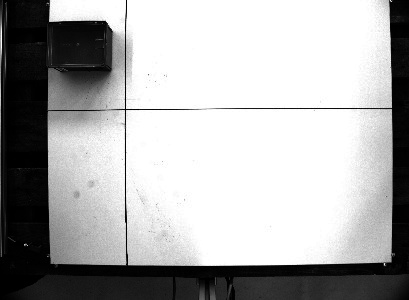klts: (42, 18, 115, 73)
